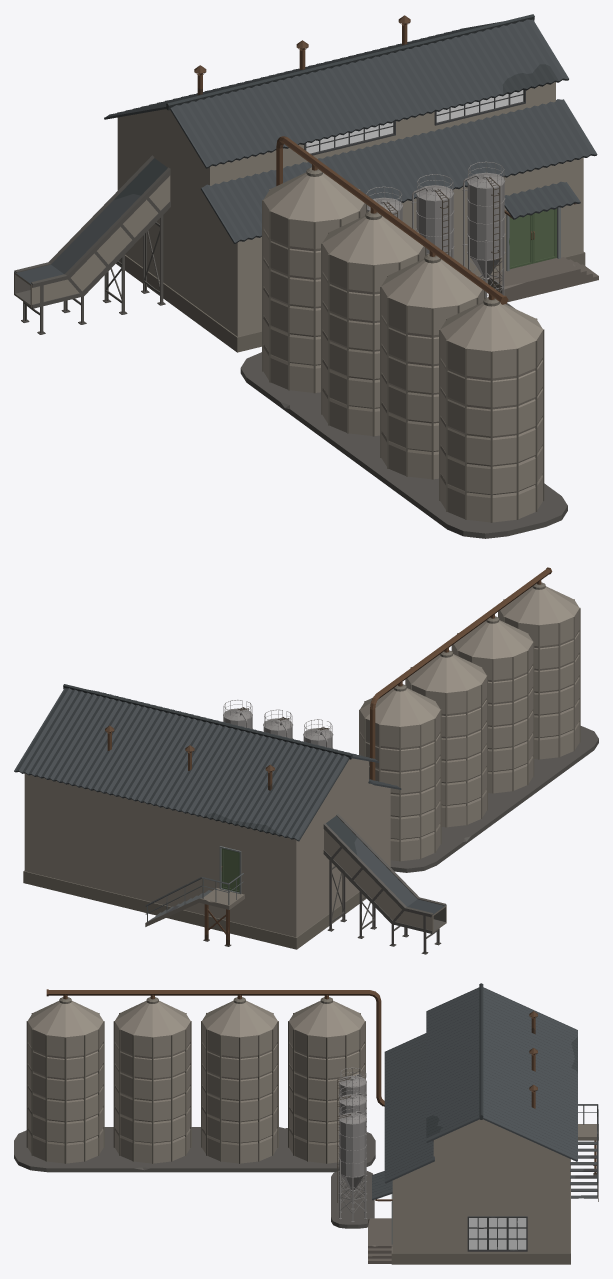
The model's file is SM_Bldg_Farm_FlourMill.fbx.
3 renders of one model, top to bottom at view 1: azimuth 30°, elevation 25°; view 2: azimuth 150°, elevation 25°; view 3: azimuth 270°, elevation 25°, orthographic. The views are drawn at different scales.
Visible parts, largest first — view 1: SM_Bldg_Farm_FlourMill, SM_Bldg_Farm_FlourMill_Silo, SM_Bldg_Farm_FlourMill_Glass; view 2: SM_Bldg_Farm_FlourMill, SM_Bldg_Farm_FlourMill_Silo; view 3: SM_Bldg_Farm_FlourMill, SM_Bldg_Farm_FlourMill_Silo, SM_Bldg_Farm_FlourMill_Glass.
Part boxes in pixels (x1,y1,x2,y2): SM_Bldg_Farm_FlourMill: [14, 14, 598, 538]; SM_Bldg_Farm_FlourMill_Silo: [366, 161, 505, 297]; SM_Bldg_Farm_FlourMill_Glass: [306, 90, 523, 153]; SM_Bldg_Farm_FlourMill: [14, 567, 598, 954]; SM_Bldg_Farm_FlourMill_Silo: [223, 699, 333, 748]; SM_Bldg_Farm_FlourMill: [14, 983, 598, 1264]; SM_Bldg_Farm_FlourMill_Silo: [337, 1067, 367, 1222]; SM_Bldg_Farm_FlourMill_Glass: [469, 1218, 526, 1249].
Size of the model in its own units: 1936 by 818 by 2686.
